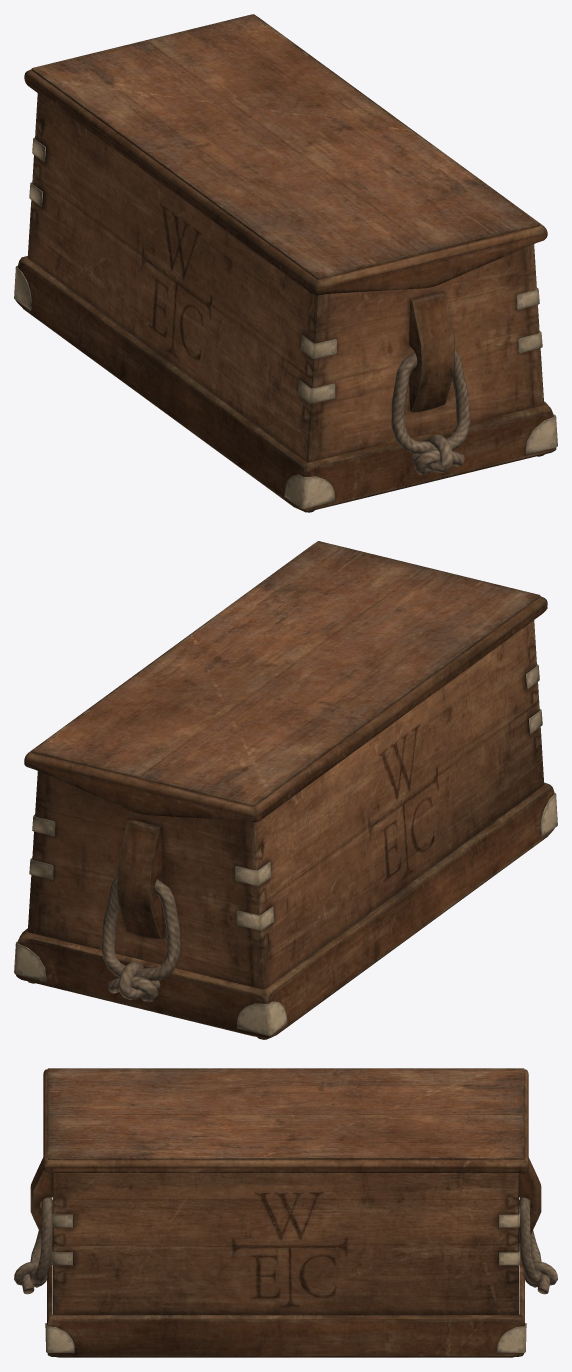
The model's file is wooden_crate_02_lod.glb.
The picture shows the model from 3 angles, top to bottom: view 1: azimuth 30°, elevation 25°; view 2: azimuth 150°, elevation 25°; view 3: azimuth 270°, elevation 25°; orthographic projection. The views are drawn at different scales.
Parts seen in each view (by area): view 1: wooden_crate_02_crate, wooden_crate_02_lid; view 2: wooden_crate_02_crate, wooden_crate_02_lid; view 3: wooden_crate_02_crate, wooden_crate_02_lid.
Boxes of the visible parts, x1,y1,x2,y2 form: wooden_crate_02_crate: [14, 93, 557, 512]; wooden_crate_02_lid: [24, 14, 547, 295]; wooden_crate_02_crate: [14, 620, 557, 1039]; wooden_crate_02_lid: [24, 541, 547, 822]; wooden_crate_02_crate: [14, 1157, 557, 1357]; wooden_crate_02_lid: [43, 1068, 528, 1172].
Bounding box in the file's own units: 0.5291 × 0.464 × 1.17.
1 material, 1 textured.
